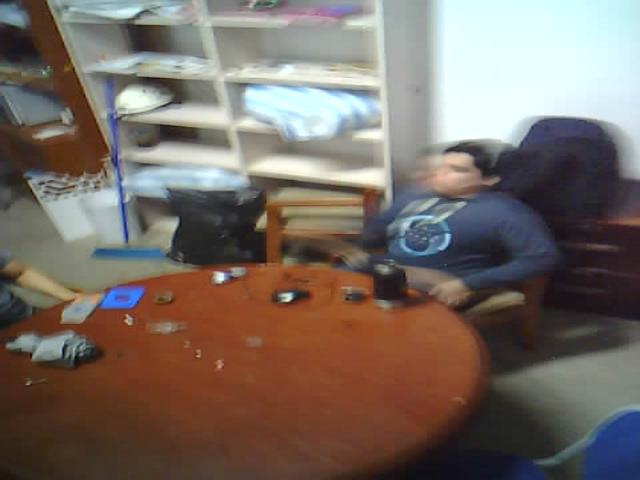person: (351, 103, 579, 337), (0, 185, 128, 361)
